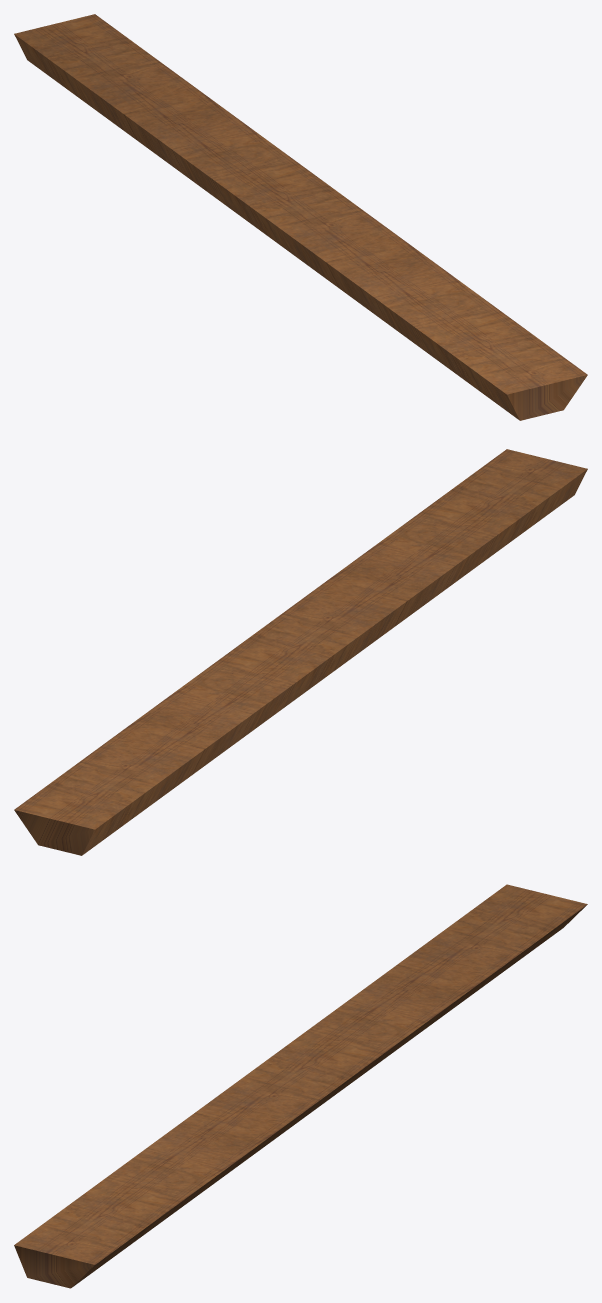
The model's file is WoodBeam02_Art.fbx.
3 renders of one model, top to bottom at view 1: azimuth 30°, elevation 25°; view 2: azimuth 150°, elevation 25°; view 3: azimuth 330°, elevation 25°, orthographic.
Parts seen in each view (by area): view 1: WoodBeam02_Art; view 2: WoodBeam02_Art; view 3: WoodBeam02_Art.
Boxes of the visible parts, <box> form: WoodBeam02_Art: <box>14,14,587,420</box>; WoodBeam02_Art: <box>14,449,587,855</box>; WoodBeam02_Art: <box>14,884,587,1288</box>.
Size of the model in its own units: 1.48 by 0.5143 by 15.59.
